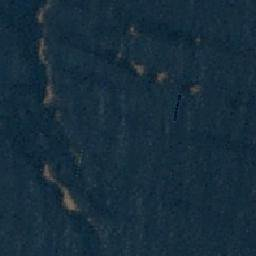debris: (39, 38, 53, 105), (36, 4, 50, 25), (41, 161, 52, 183), (64, 194, 79, 210), (133, 59, 143, 79), (54, 182, 69, 193), (155, 70, 166, 82), (190, 84, 201, 93)
